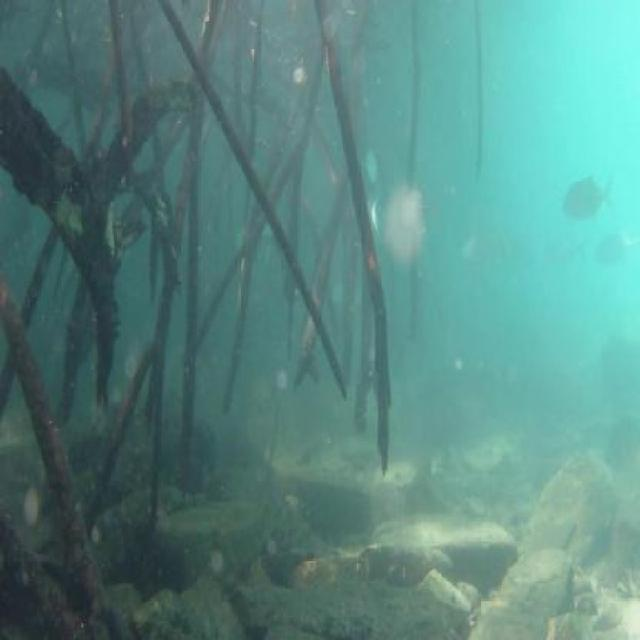Caranx_sexfasciatus_juvenile: (562, 174, 621, 231), (396, 172, 432, 240), (595, 227, 634, 278), (553, 226, 584, 272), (362, 194, 384, 246)
